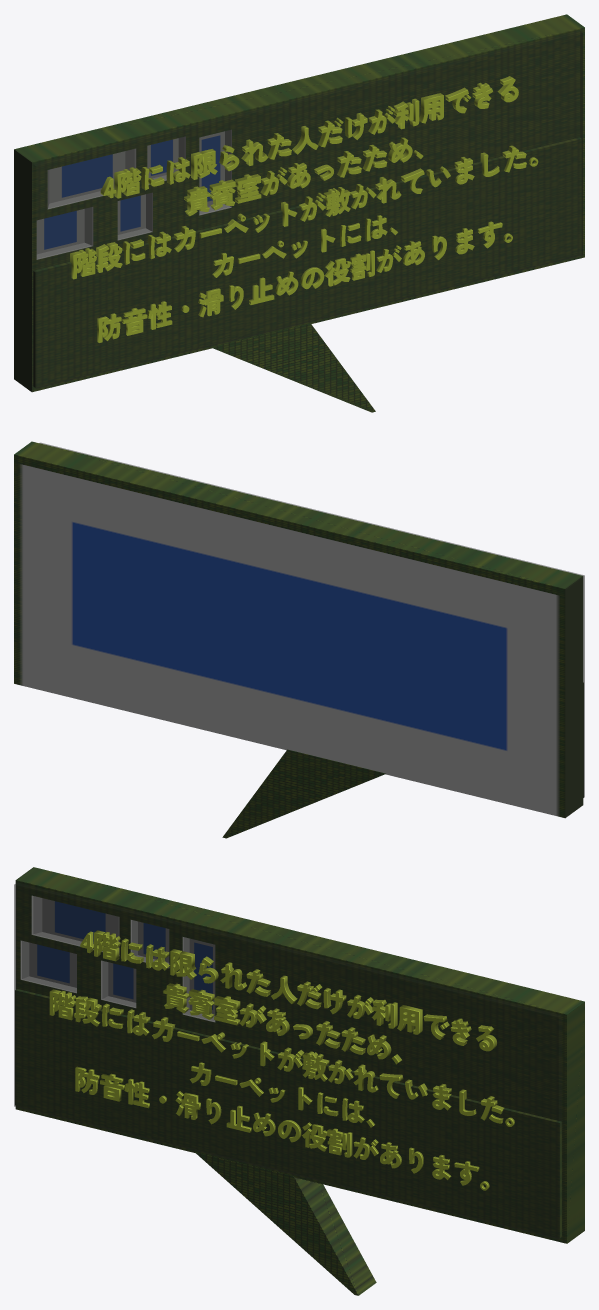
File: cfukidasi-karpet.glb
The picture shows the model from 3 angles, top to bottom: view 1: azimuth 30°, elevation 25°; view 2: azimuth 150°, elevation 25°; view 3: azimuth 330°, elevation 25°; orthographic projection.
Visible parts, largest first — view 1: 立方体.003, 立方体, 立方体.002, テキスト, 立方体.001; view 2: 立方体, 立方体.001, 立方体.003; view 3: 立方体.003, 立方体, 立方体.002, テキスト, 立方体.001.
Boxes of the visible parts, bbox=[...] form: 立方体.003: bbox=[33, 31, 582, 388]; 立方体: bbox=[14, 14, 584, 392]; 立方体.002: bbox=[33, 137, 581, 387]; テキスト: bbox=[70, 76, 538, 342]; 立方体.001: bbox=[211, 323, 375, 412]; 立方体: bbox=[14, 441, 583, 818]; 立方体.001: bbox=[222, 749, 385, 838]; 立方体.003: bbox=[39, 442, 584, 797]; 立方体.003: bbox=[14, 883, 561, 1239]; 立方体: bbox=[15, 867, 584, 1243]; 立方体.002: bbox=[15, 989, 561, 1238]; テキスト: bbox=[49, 930, 514, 1190]; 立方体.001: bbox=[195, 1152, 376, 1295].
Size of the model in its own units: 11.12 by 6.4 by 0.7575.
Materials: 5 (3 with a texture image).
